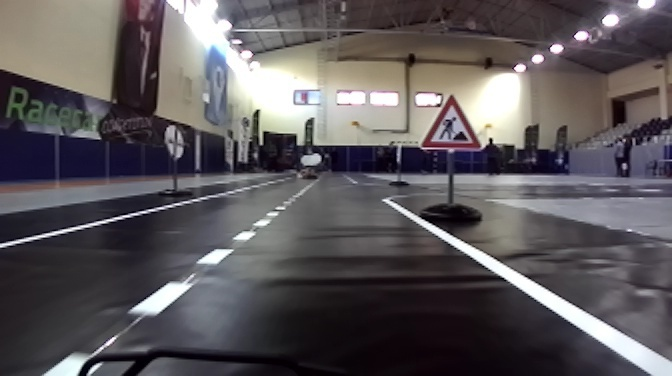yol_yapimi: (420, 91, 477, 147)
